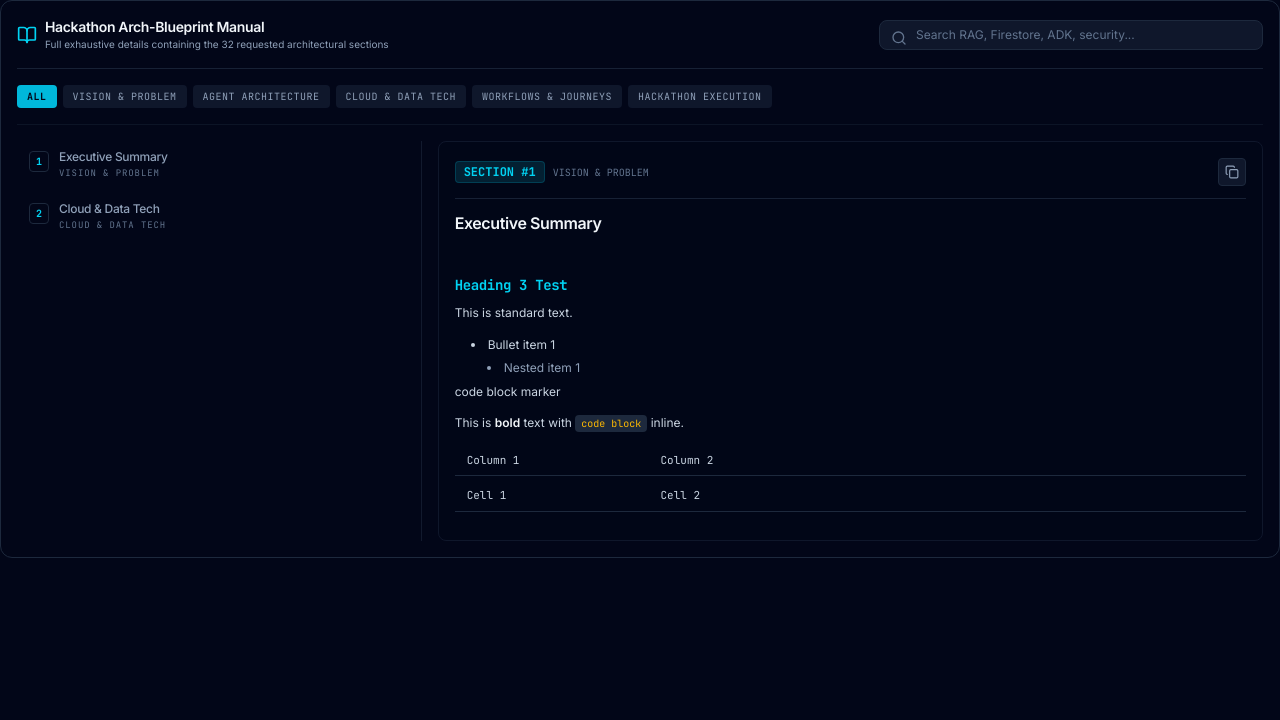
BlueprintConsole Component › displays NO COMPILING MATCHES FOUND when search query has no match
Type "non_existent_section_with_weird_name" into the field with placeholder "Search RAG, Firestore, ADK, security...". click: (1071, 34)
box: [879,20,1263,50]
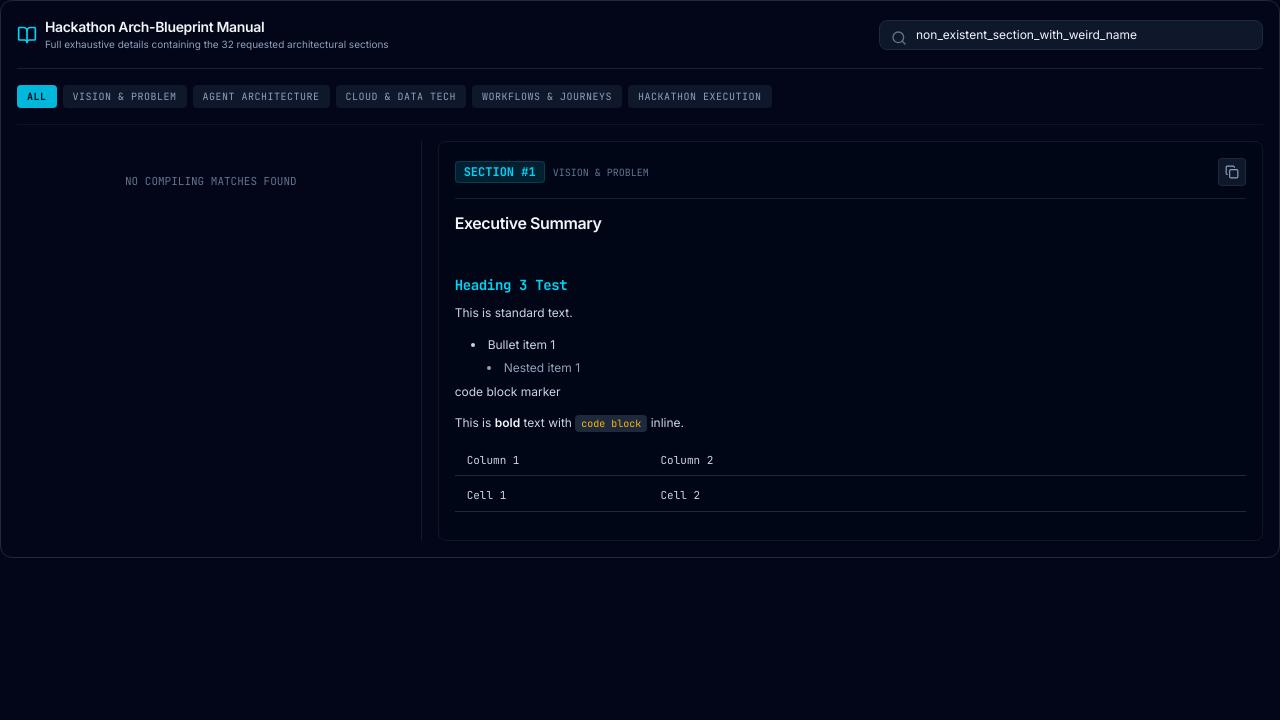
expect the text "NO COMPILING MATCHES FOUND" is shown: met, box [125,174,297,188]
